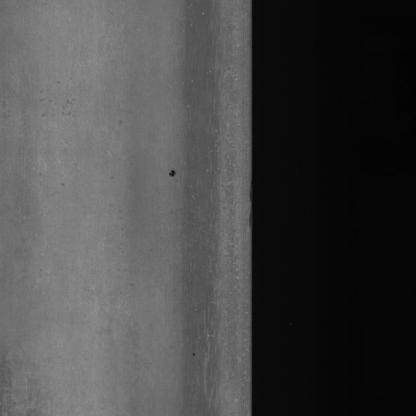inclusion: (164, 161, 180, 182)
